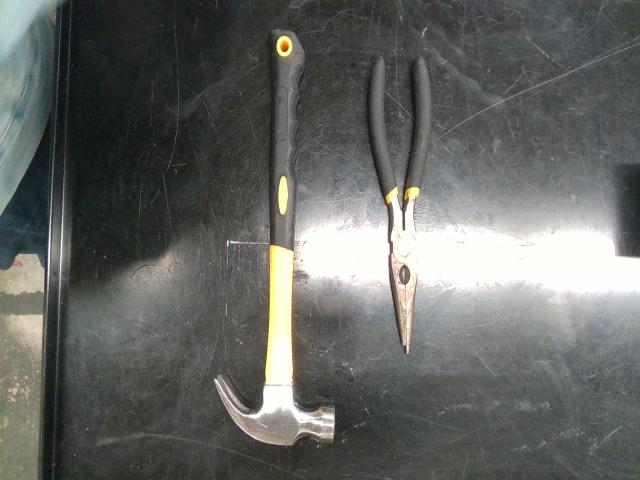Hammer: (215, 30, 335, 444)
Needle-nose pliers: (369, 57, 431, 352)
